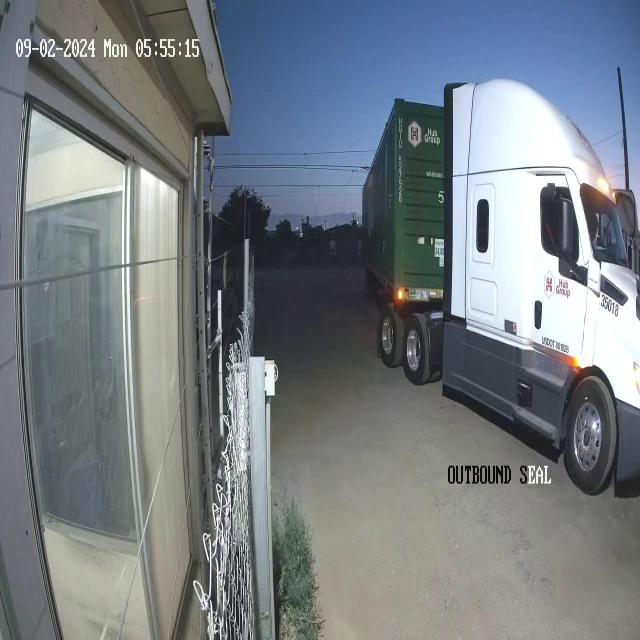CONTAINER: (364, 102, 444, 316)
